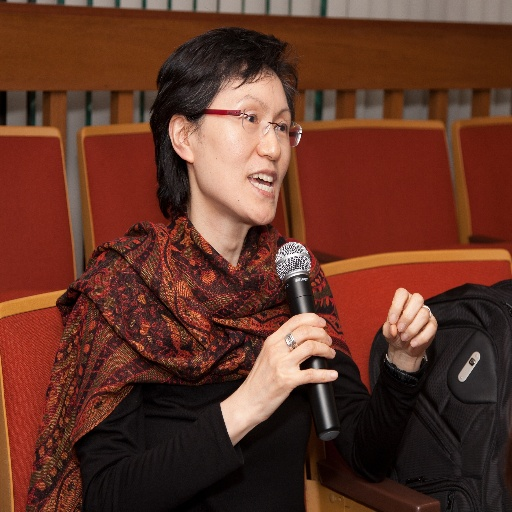hand: (232, 317, 346, 419), (380, 286, 437, 357)
